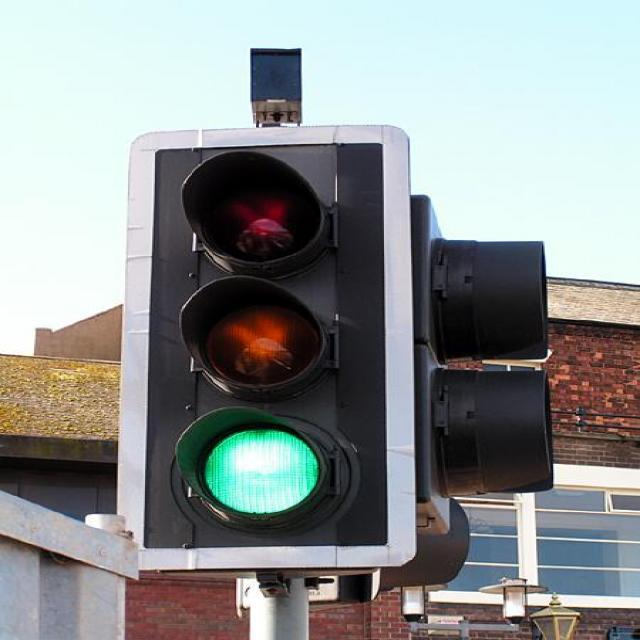green_light: (158, 150, 372, 538)
